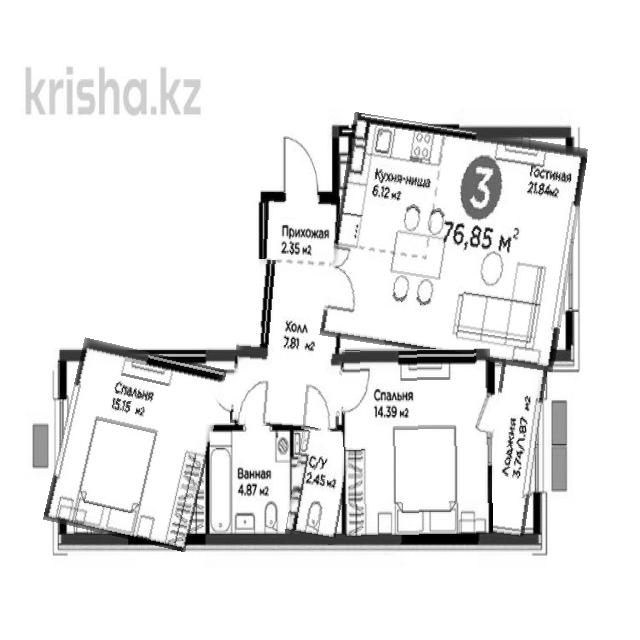balcony: (485, 352, 543, 540)
bathroom: (207, 428, 293, 540), (288, 427, 348, 544)
hallway: (232, 260, 348, 430), (263, 193, 340, 268)
living_room: (53, 344, 217, 545), (343, 349, 493, 542)
studio: (327, 120, 580, 364)
